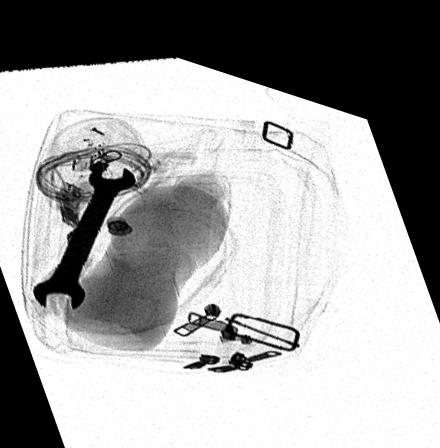Wrench: (31, 153, 138, 309)
